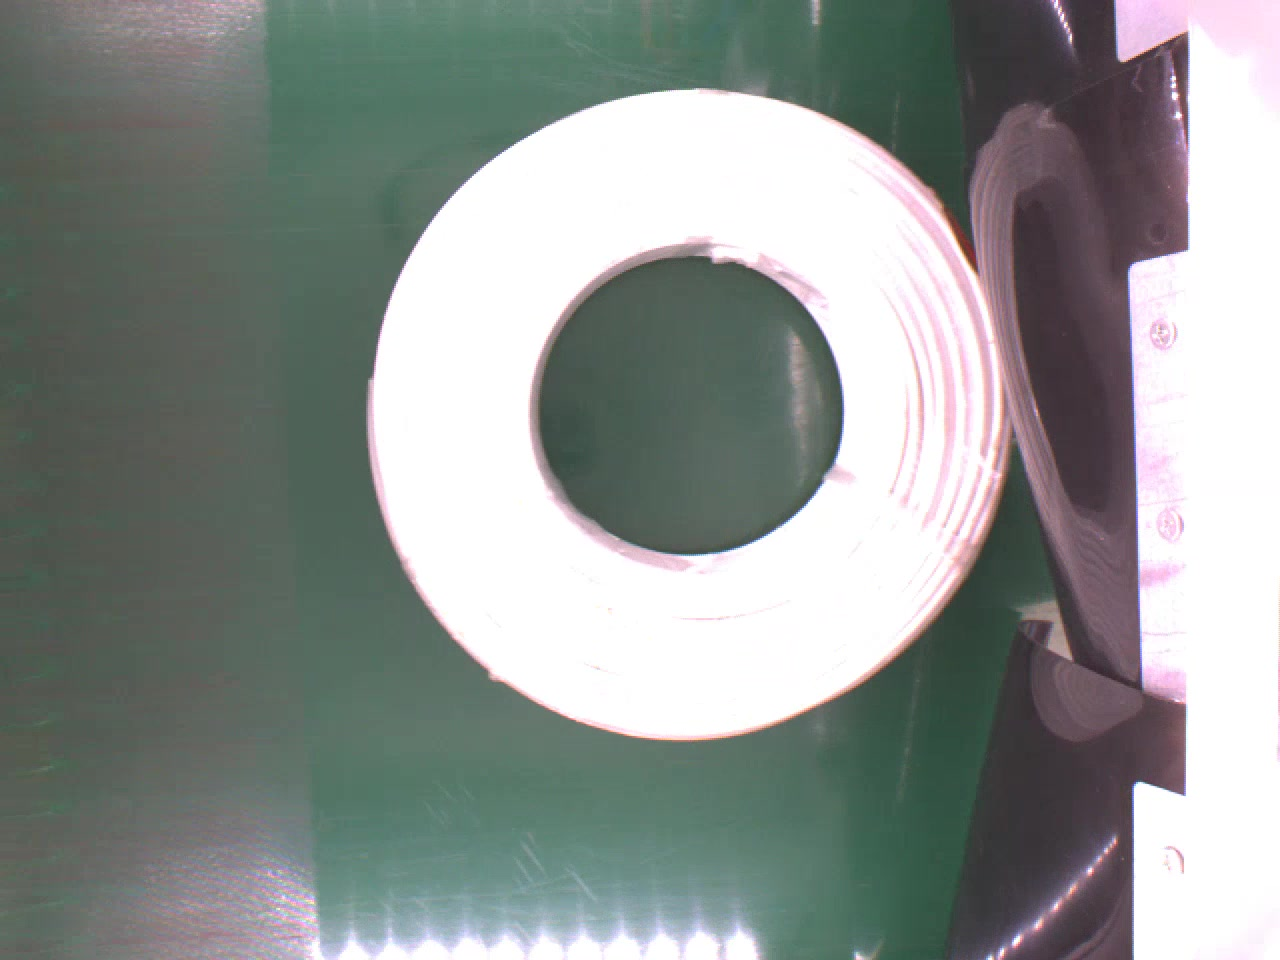white: (359, 88, 1014, 754)
